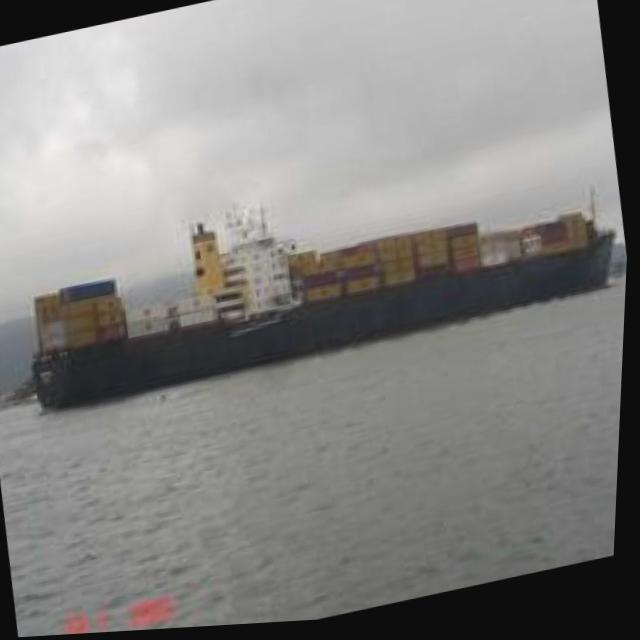ship2: (38, 179, 621, 415)
